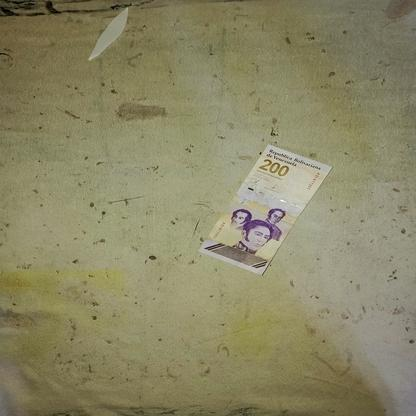two_hundred-front-vef: (197, 143, 332, 276)
